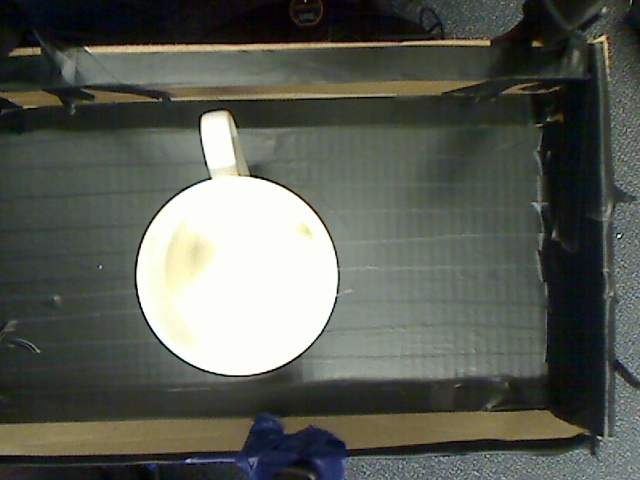mug: (133, 104, 340, 396)
